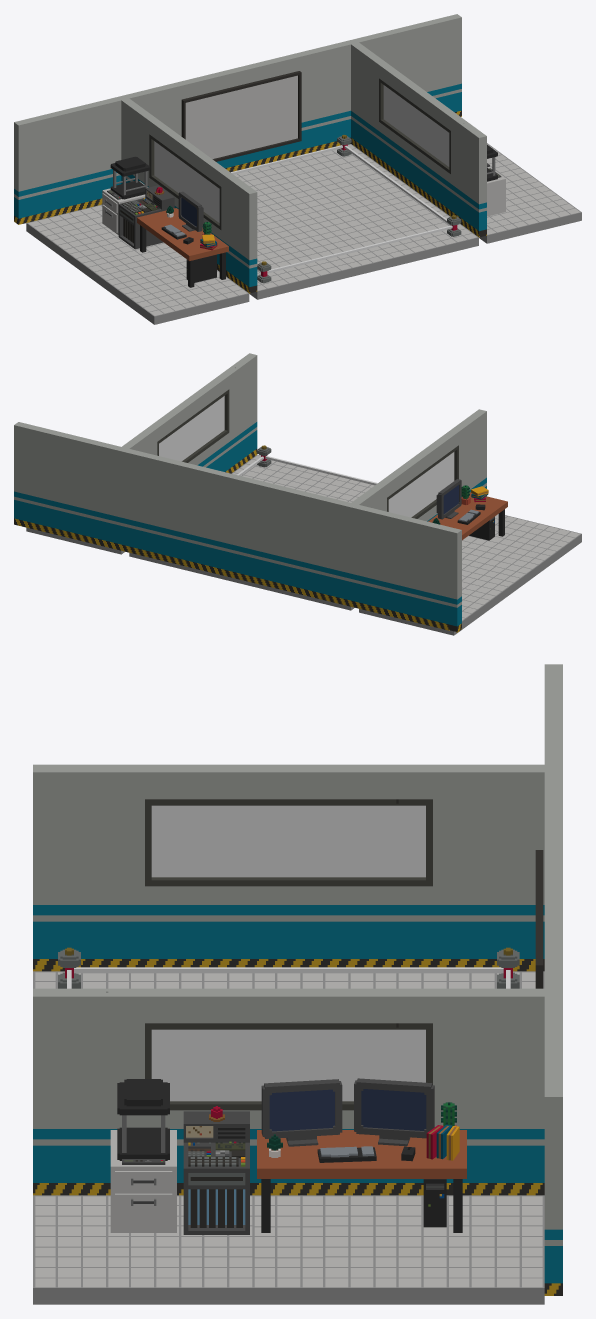
The model's file is scenegame_v02.fbx.
3 views of the same model, one above another, from view 1: azimuth 30°, elevation 25°; view 2: azimuth 150°, elevation 25°; view 3: azimuth 270°, elevation 25° (orthographic). The views are drawn at different scales.
Parts seen in each view (by area): view 1: model_38, model_19.002, model_17.001, model_21, model_21.001, model_17, model_20.001, model_0.002, model_0, model_0.003; view 2: model_38, model_19.002, model_17.001, model_21, model_21.001, model_0.002; view 3: model_38, model_19.002, model_17, model_21.001, model_21, model_0.001, model_20.001.
Part boxes in pixels (x1,y1,x2,y2): model_38: (14,14,486,293); model_19.002: (26,143,581,324); model_17.001: (102,156,228,287); model_21: (383,85,449,166); model_21.001: (154,141,219,222); model_17: (487,144,505,216); model_20.001: (257,135,461,283); model_0.002: (267,225,452,273); model_0: (344,145,450,225); model_0.003: (231,145,342,174); model_38: (14,353,486,632); model_19.002: (26,454,581,635); model_17.001: (428,479,507,540); model_21: (159,396,224,461); model_21.001: (388,452,454,517); model_0.002: (265,456,377,485); model_38: (33,664,562,1295); model_19.002: (33,971,544,1304); model_17: (110,1078,466,1234); model_21.001: (151,805,425,877); model_21: (151,1029,425,1101); model_0.001: (74,967,503,973); model_20.001: (58,947,519,988).
Bounding box in the file's own units: 3136 × 1624 × 728.
